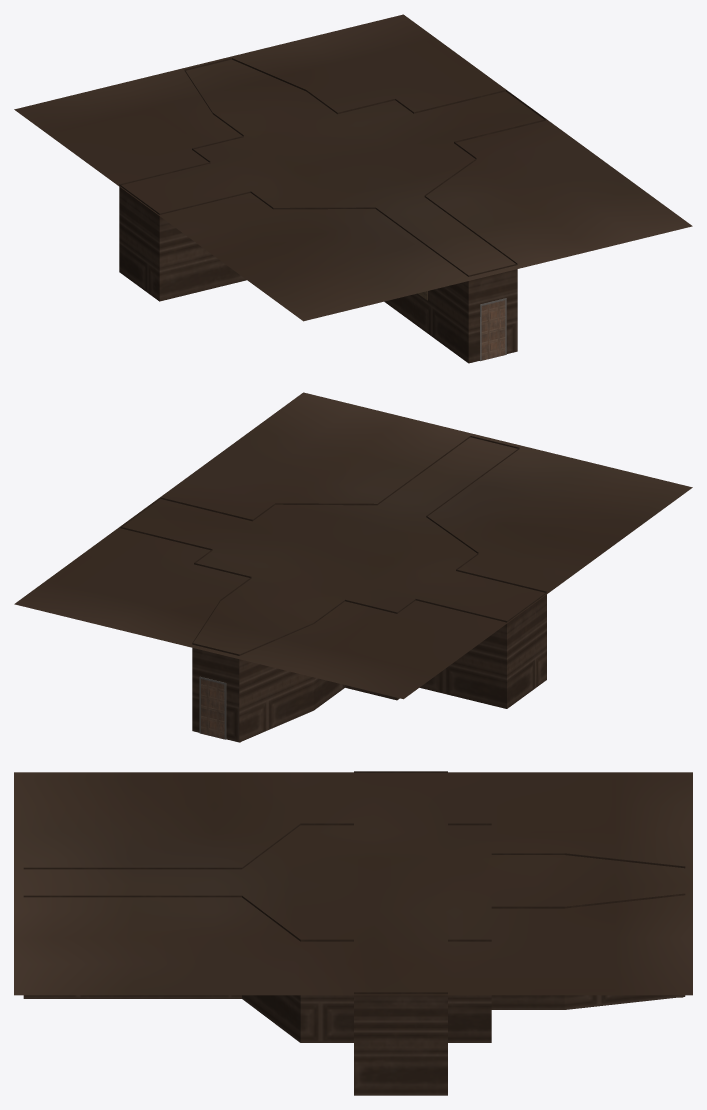
The model's file is Library Room.fbx.
3 renders of one model, top to bottom at view 1: azimuth 30°, elevation 25°; view 2: azimuth 150°, elevation 25°; view 3: azimuth 270°, elevation 25°, orthographic. The views are drawn at different scales.
Parts seen in each view (by area): view 1: Cube.001, Puzzle 2, Door; view 2: Cube.001, Puzzle 2, Door.001; view 3: Cube.001, Puzzle 2.
Boxes of the visible parts, x1=… form: Cube.001: x1=14, y1=14, x2=692, y2=321; Puzzle 2: x1=119, y1=58, x2=545, y2=363; Door: x1=480, y1=298, x2=506, y2=361; Cube.001: x1=14, y1=392, x2=692, y2=699; Puzzle 2: x1=120, y1=436, x2=546, y2=742; Door.001: x1=199, y1=676, x2=226, y2=739; Cube.001: x1=14, y1=772, x2=692, y2=995; Puzzle 2: x1=23, y1=771, x2=685, y2=1095.
Size of the model in its own units: 5053 by 1115 by 6501.
